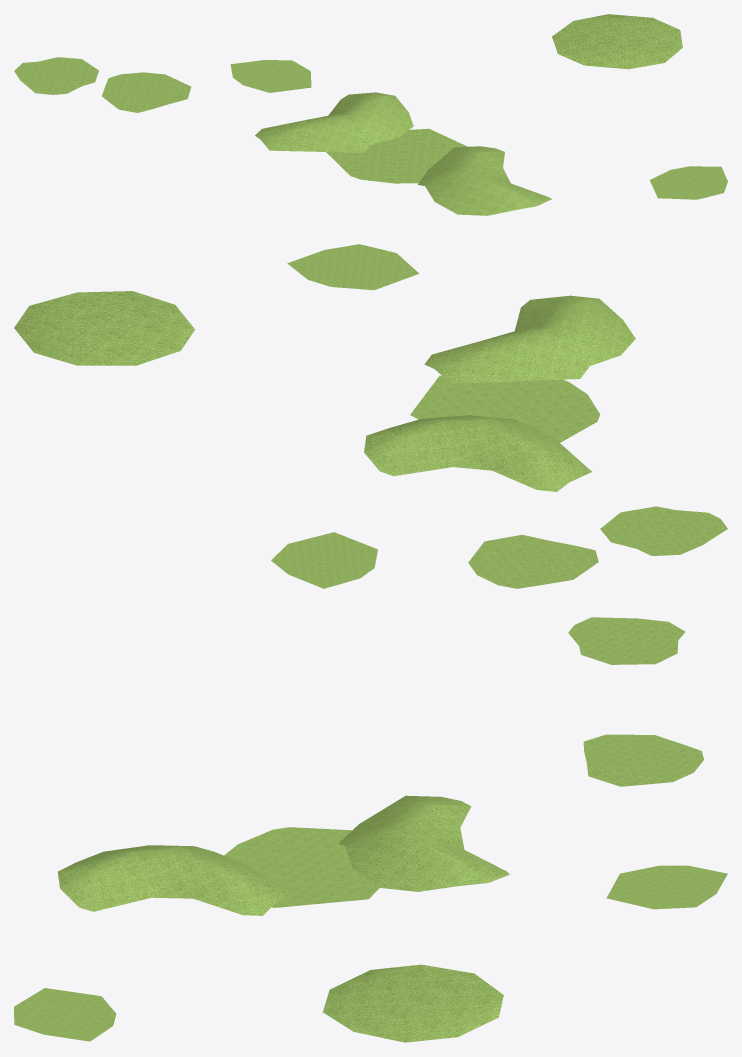
The model's file is kd_stage_1366d7_16_0_bounded.glb.
The picture shows the model from 3 angles, top to bottom: view 1: azimuth 30°, elevation 25°; view 2: azimuth 150°, elevation 25°; view 3: azimuth 270°, elevation 25°; orthographic projection. The views are drawn at different scales.
Parts seen in each view (by area): view 1: kd_stage_1366d7_16_0_bounded; view 2: kd_stage_1366d7_16_0_bounded; view 3: kd_stage_1366d7_16_0_bounded.
Boxes of the visible parts, x1,y1,x2,y2 form: kd_stage_1366d7_16_0_bounded: [14, 14, 727, 215]; kd_stage_1366d7_16_0_bounded: [14, 244, 727, 588]; kd_stage_1366d7_16_0_bounded: [14, 617, 727, 1042].
Size of the model in its own units: 576 by 63.99 by 449.
Materials: 1 (1 with a texture image).
